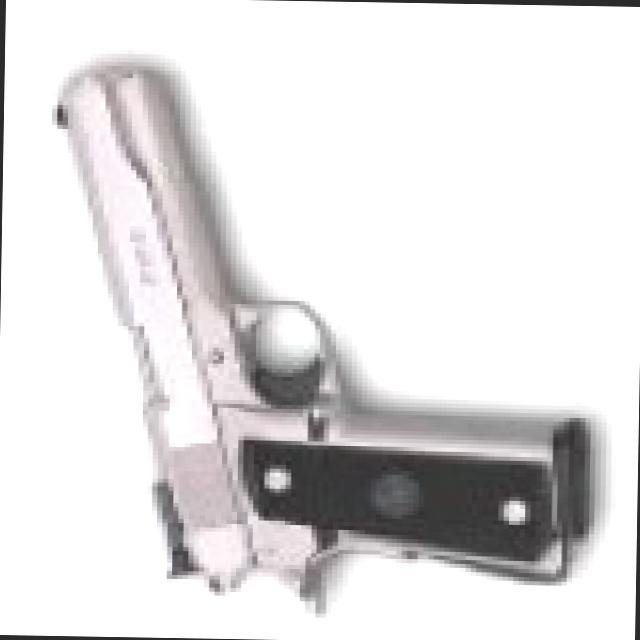handgun: (32, 71, 602, 617)
